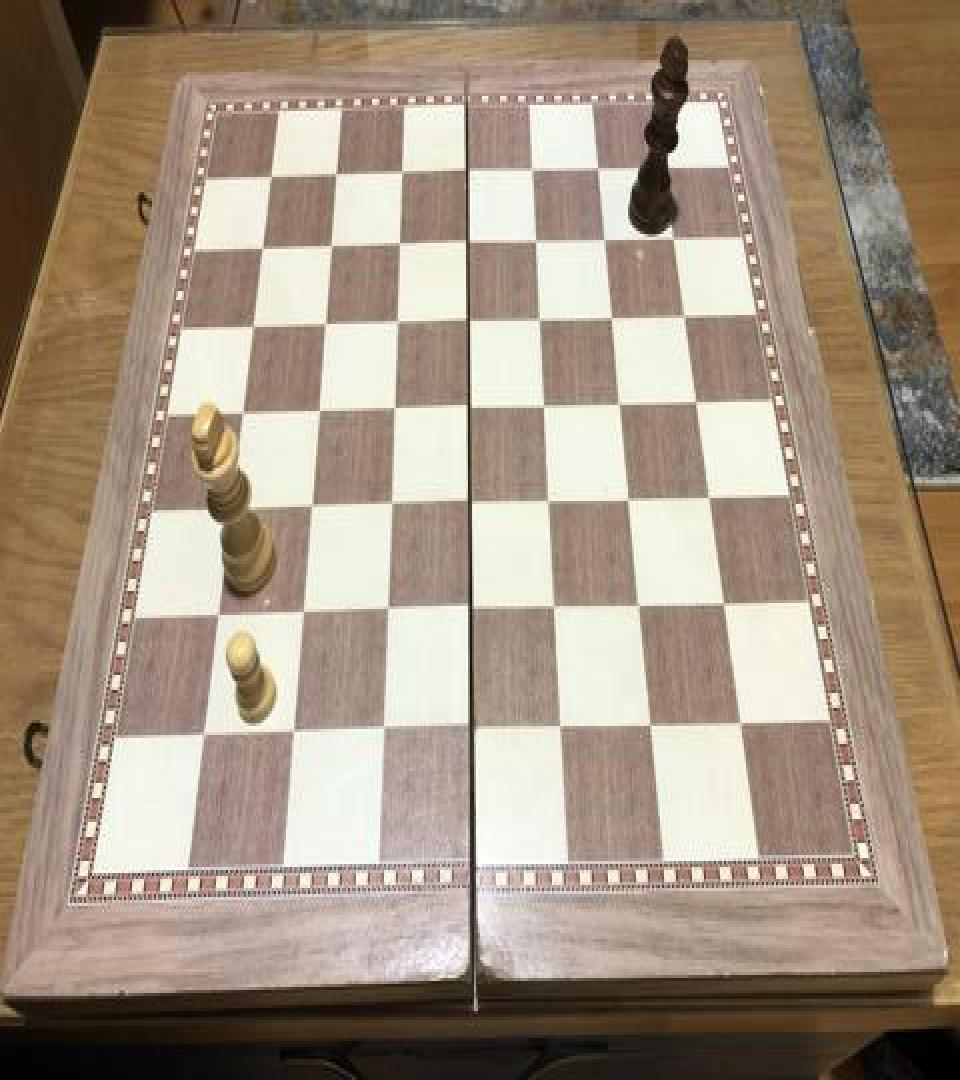xcorner: (376, 595, 400, 632), (552, 712, 576, 749), (657, 150, 681, 186), (591, 152, 615, 188), (525, 154, 549, 190), (459, 156, 483, 192), (393, 158, 417, 194), (328, 159, 352, 195), (262, 162, 286, 198), (666, 220, 690, 256), (597, 224, 621, 260), (528, 225, 552, 261), (459, 226, 483, 262), (390, 228, 414, 264), (322, 231, 346, 267), (253, 232, 277, 268), (677, 298, 701, 334), (604, 302, 628, 338), (532, 303, 556, 339), (460, 304, 484, 340), (387, 306, 411, 342), (315, 309, 339, 345), (244, 310, 268, 346), (689, 386, 713, 422), (612, 387, 636, 423), (536, 388, 560, 424), (460, 392, 484, 428), (384, 393, 408, 429), (308, 394, 332, 430), (233, 398, 257, 434), (702, 482, 726, 518), (621, 483, 645, 519), (541, 484, 565, 520), (461, 486, 485, 522), (380, 489, 404, 525), (300, 490, 324, 526), (221, 492, 245, 528), (717, 588, 741, 624), (631, 590, 655, 626), (546, 591, 570, 627), (461, 594, 485, 630), (292, 597, 316, 633), (207, 600, 231, 636), (733, 708, 757, 744), (642, 710, 666, 746), (462, 714, 486, 750), (372, 716, 396, 752), (282, 717, 306, 753), (192, 720, 216, 756)
